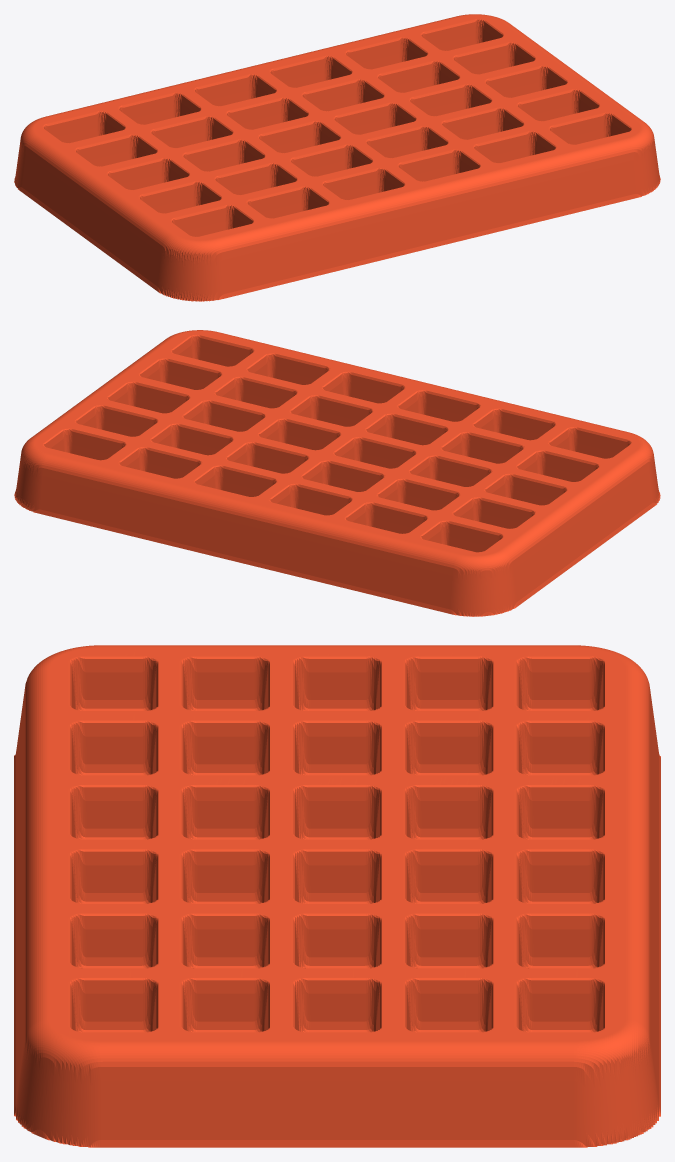
The model's file is mold.glb.
3 renders of one model, top to bottom at view 1: azimuth 30°, elevation 25°; view 2: azimuth 150°, elevation 25°; view 3: azimuth 270°, elevation 25°, orthographic. The views are drawn at different scales.
Parts seen in each view (by area): view 1: geometry_0; view 2: geometry_0; view 3: geometry_0.
Boxes of the visible parts, x1,y1,x2,y2 form: geometry_0: (14, 14, 660, 301); geometry_0: (14, 330, 660, 616); geometry_0: (14, 645, 660, 1147).
Bounding box in the file's own units: 0.104 × 0.0105 × 0.0672.
